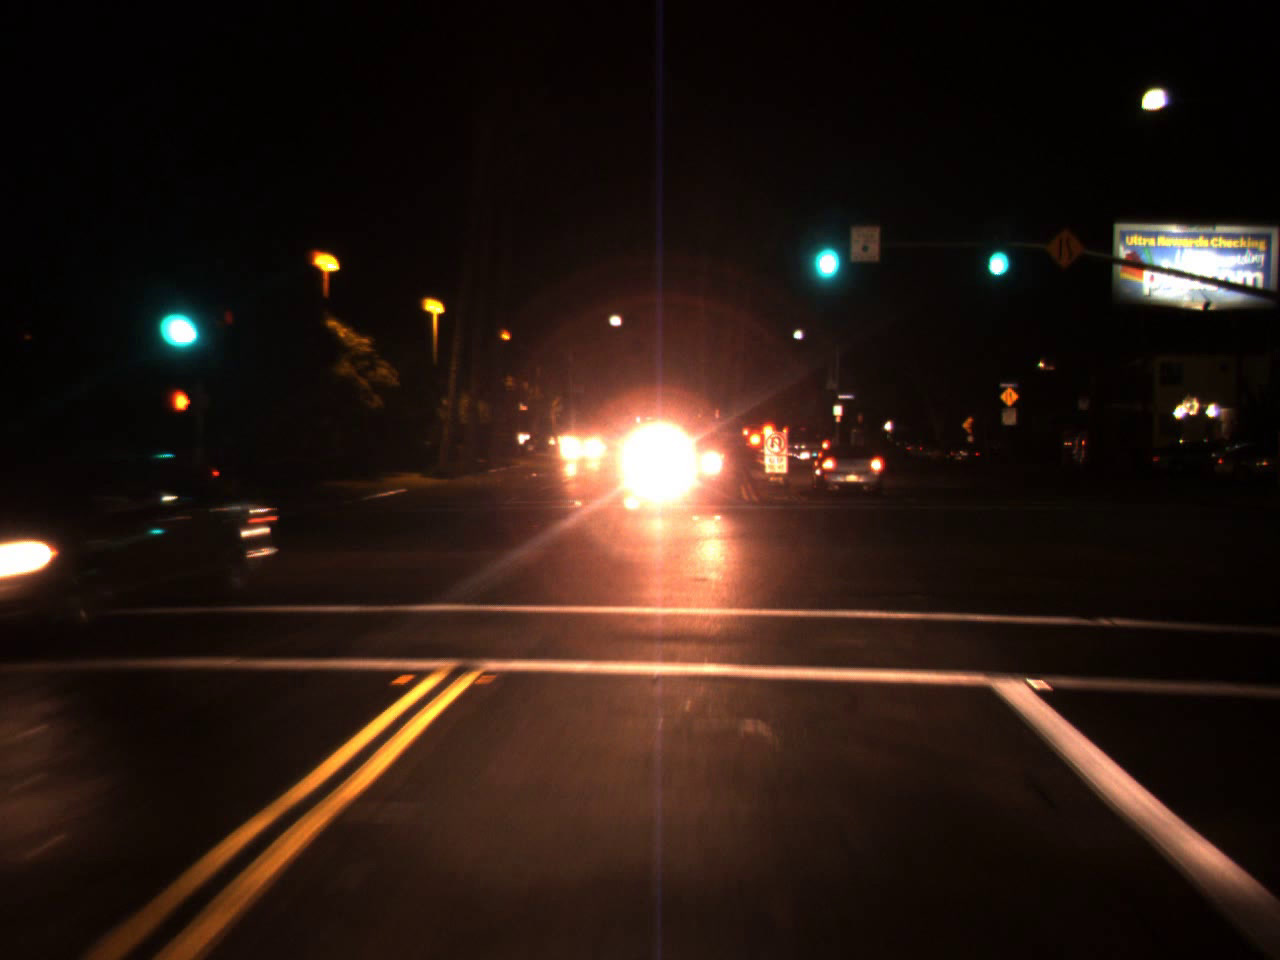go: (153, 277, 203, 358), (804, 208, 845, 292), (981, 220, 1013, 286)
